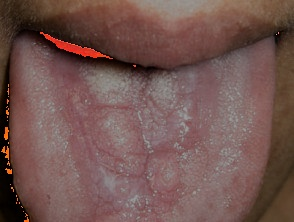SJS-TEN: (58, 59, 202, 221)
